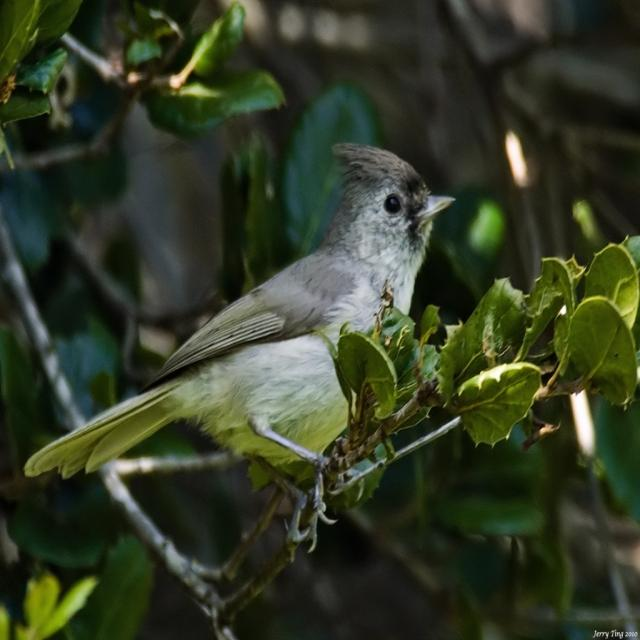bird: (18, 131, 460, 557)
